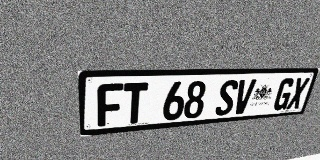6: (162, 81, 188, 121)
8: (183, 81, 208, 119)
F: (97, 83, 123, 127)
G: (272, 78, 296, 111)
S: (214, 80, 239, 116)
T: (123, 82, 148, 124)
V: (231, 79, 257, 115)
X: (286, 77, 310, 110)
